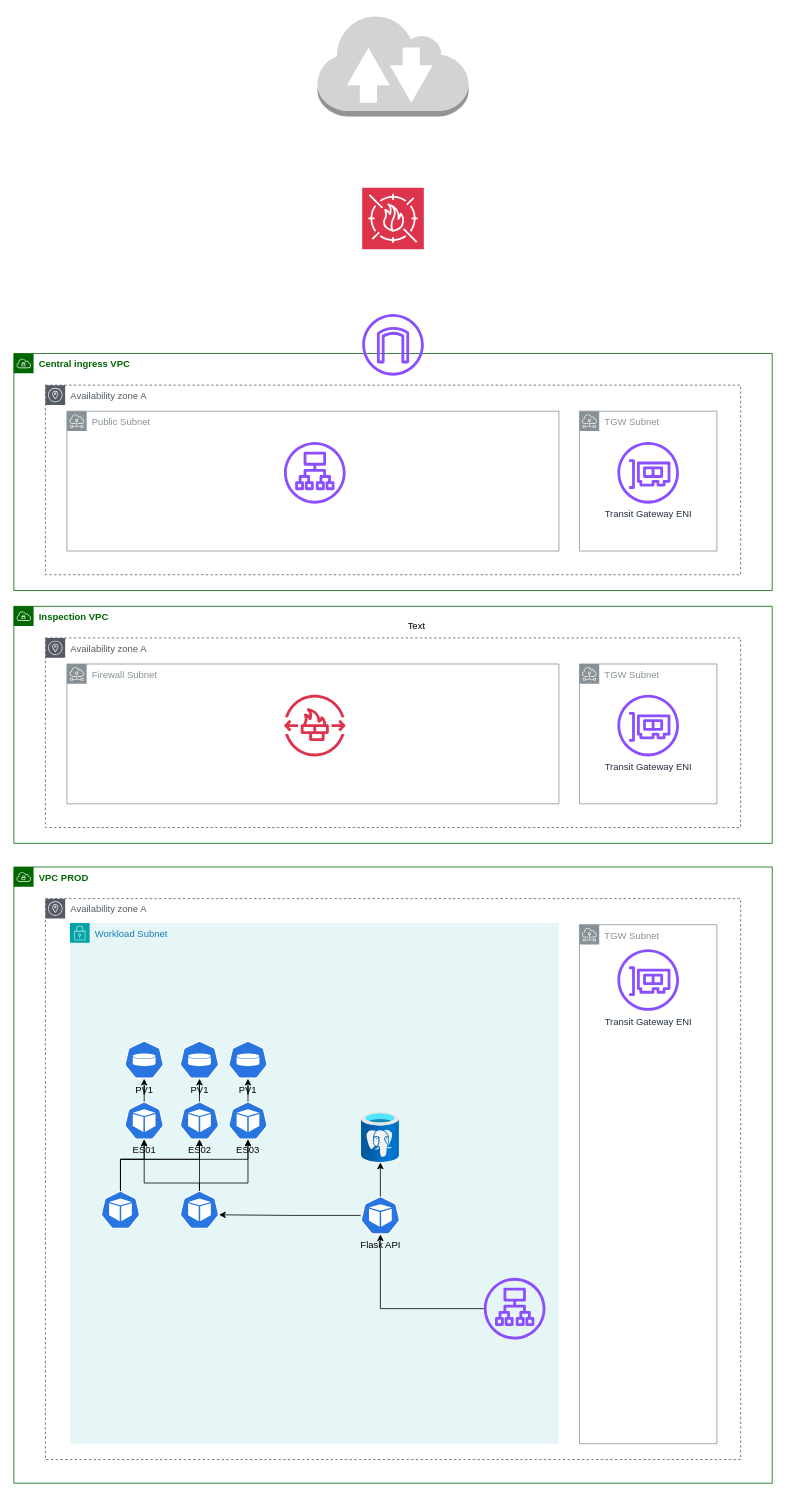
Image size: 786x1497. Some labels were removed from this diagram. The shapes that lost their labels are listed below. From the top down, each one's centre as x and y in pixels, then its label:
At [393,65]: "Internet".
At [392,218]: "AWS WAF / Cloudflare WAF".
At [314,472]: "ALB".
At [314,725]: "Firewall endpoint".
At [380,1137]: "AWS RDS Postgres".
At [120,1209]: "Kibana".
At [199,1209]: "Filebeat".
At [514,1308]: "Ingress service".
